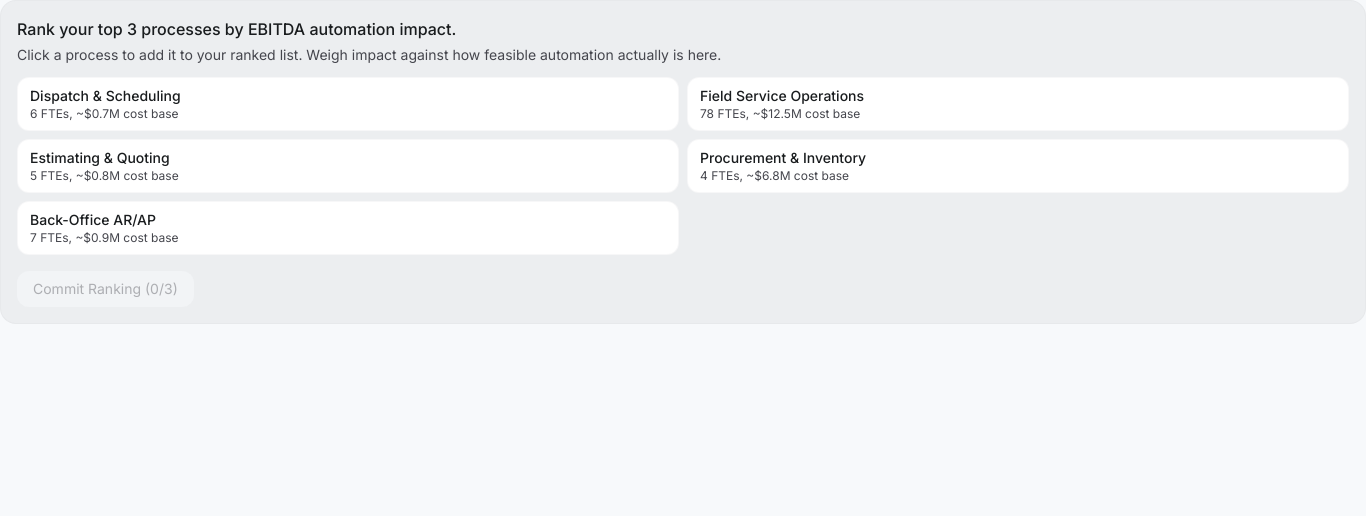
RankingStage › supports remove and reorder of ranked picks
The image size is (1366, 516).
Click the button "Dispatch & Scheduling 6 FTEs, ~$0.7M cost base".
click(105, 96)  # box [17,77,679,131]
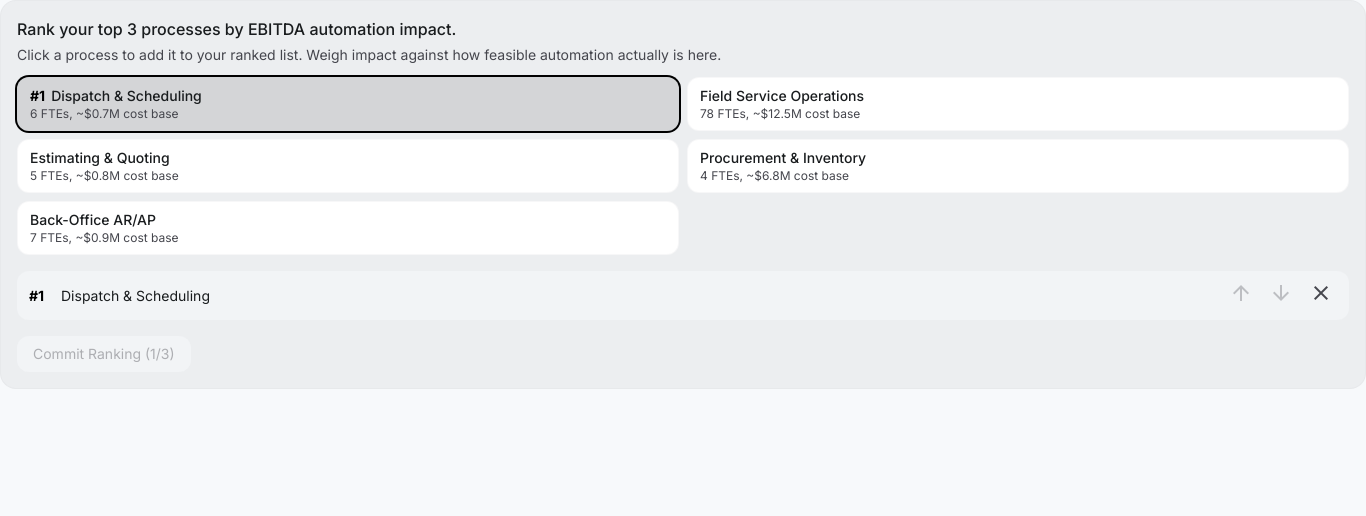
Click the button "Procurement & Inventory 4 FTEs, ~$6.8M cost base".
click(783, 158)  # box [687,139,1349,193]
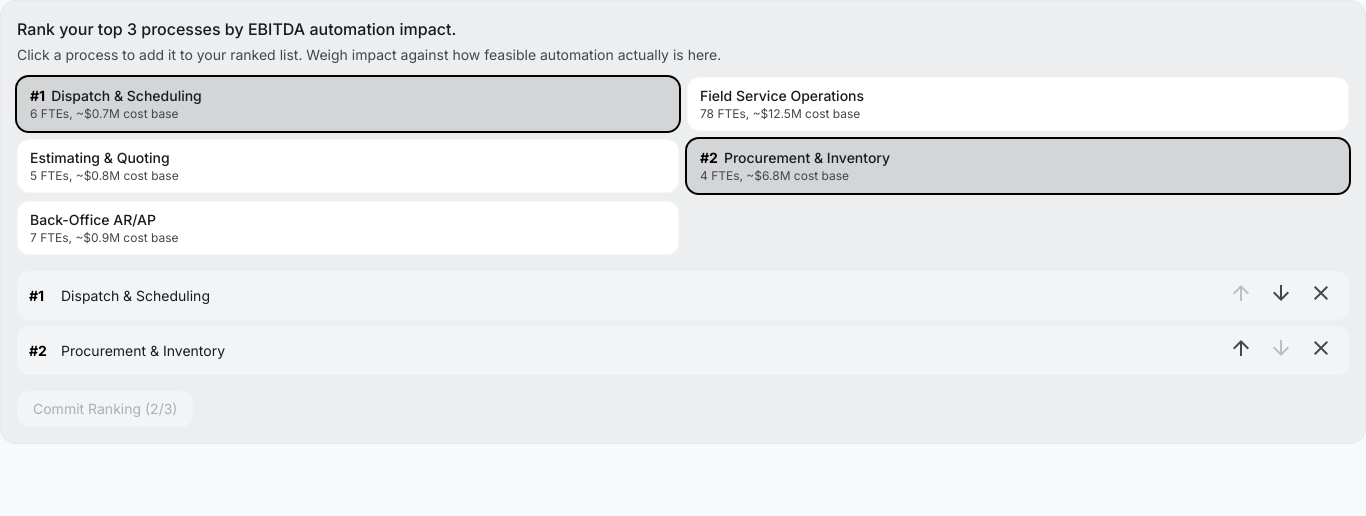
Click the button "Back-Office AR/AP 7 FTEs, ~$0.9M cost base".
click(93, 220)  # box [17,201,679,255]
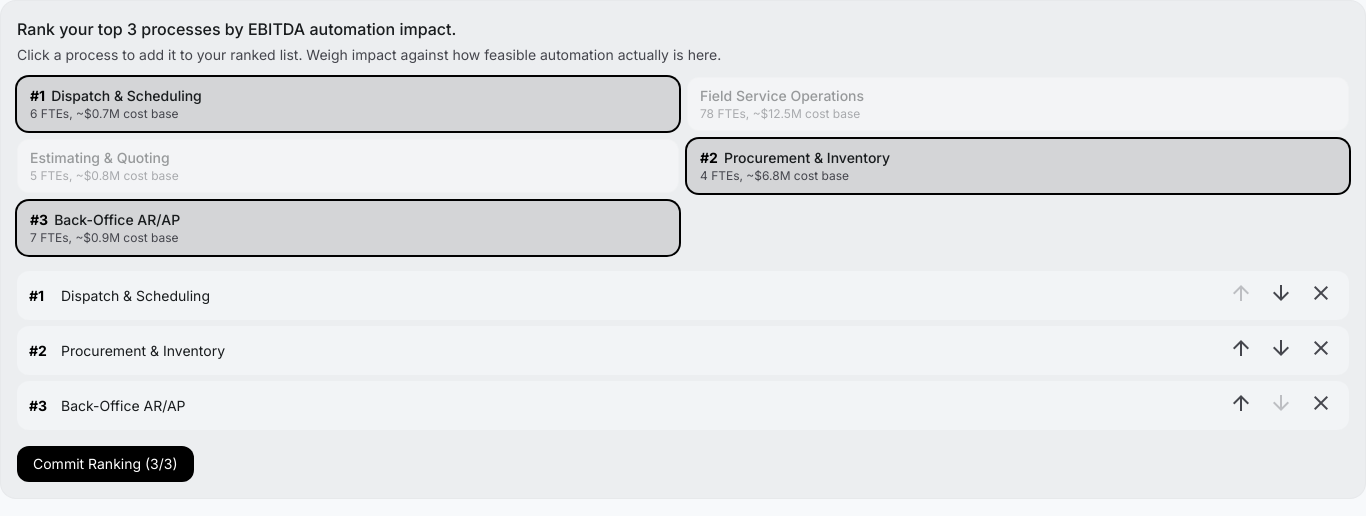
Click the button named "Move Procurement & Inventory up".
click(1241, 350)  # box [1225,332,1257,369]
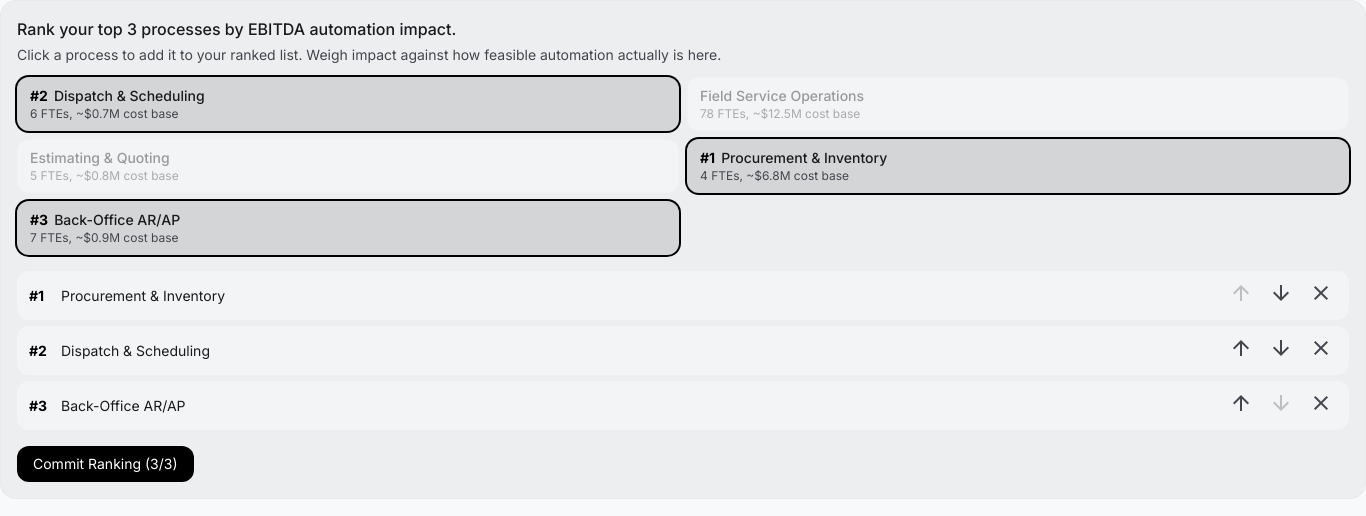
Now the list item "#1 Procurement & Inventory" is shown, box [17,271,1349,320]
Click the button named "Remove Back-Office AR/AP".
click(1321, 406)  # box [1305,387,1337,424]
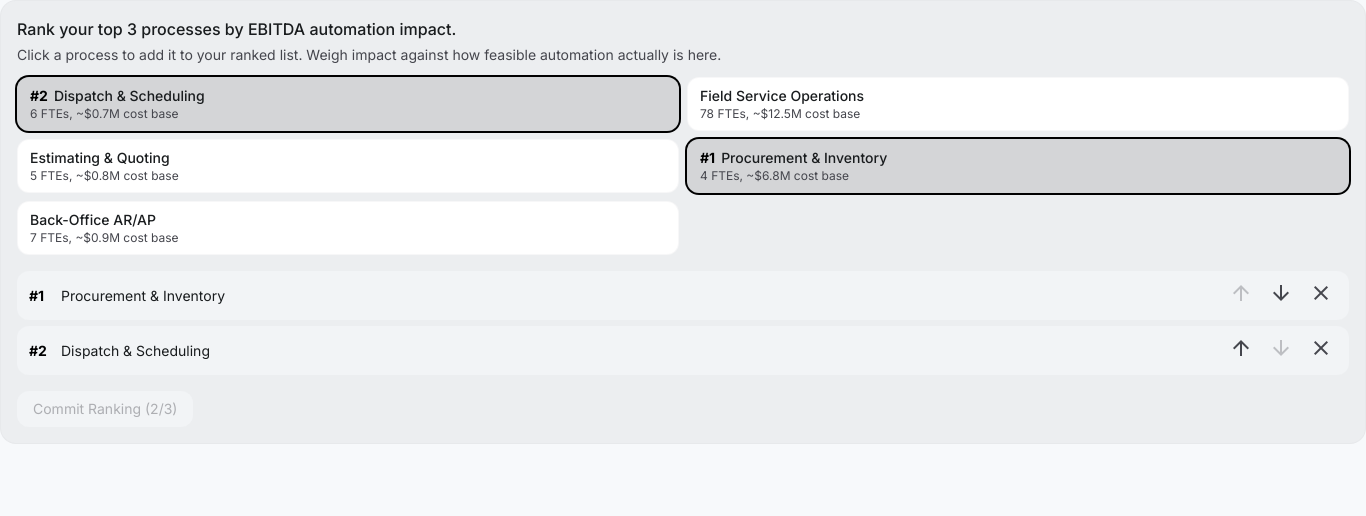
Now the button "Commit Ranking (2/3)" is shown, box [17,391,194,427]
